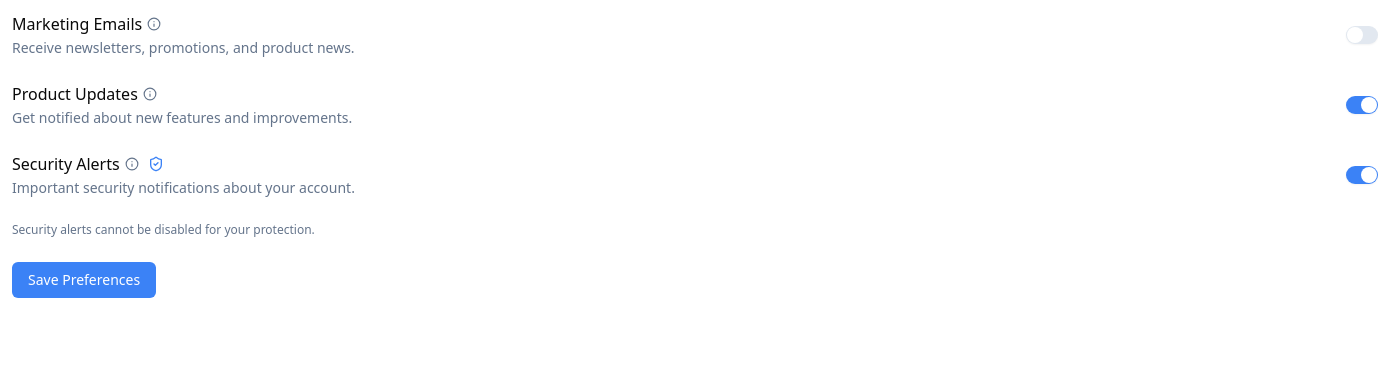
Test: components/forms/preferences-form › form submission › should NOT track analytics on preferences update failure
Click the button "Save Preferences" at (84, 280), box [12, 262, 156, 298]
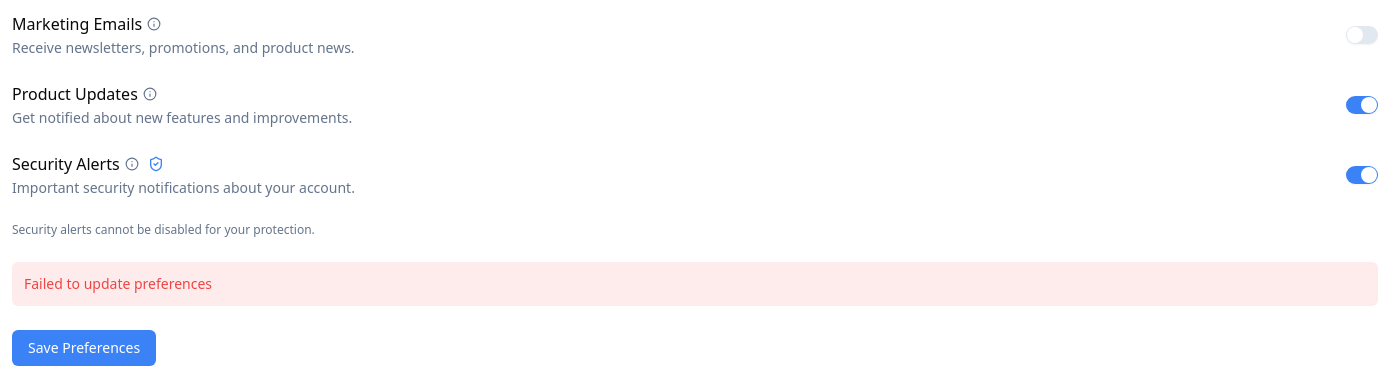
Check: the text "Failed to update preferences" is shown, box [12, 262, 1378, 306]
